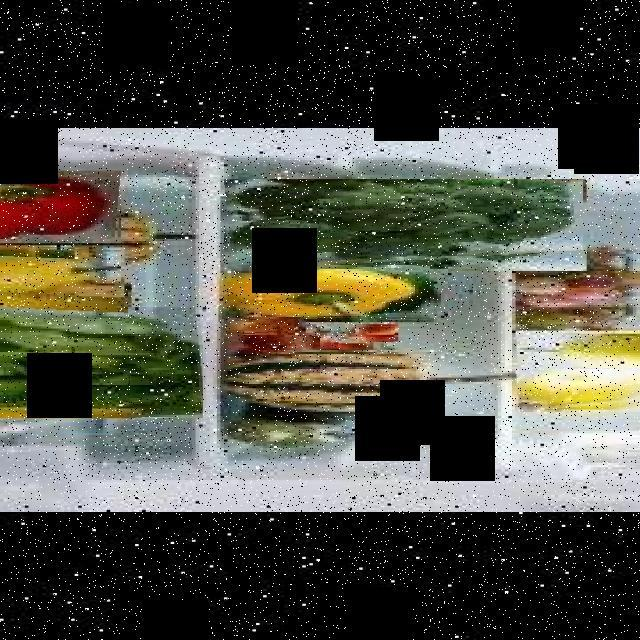apple: (512, 331, 640, 369), (0, 284, 128, 318)
bell_pepper: (217, 265, 430, 322), (0, 170, 124, 243)
broccoli: (221, 179, 583, 271)
lemon: (512, 369, 640, 412)
pear: (0, 245, 121, 292)
salad: (0, 307, 203, 418)
tomato: (222, 319, 300, 336), (327, 324, 395, 342), (298, 333, 370, 350), (238, 335, 316, 348)
